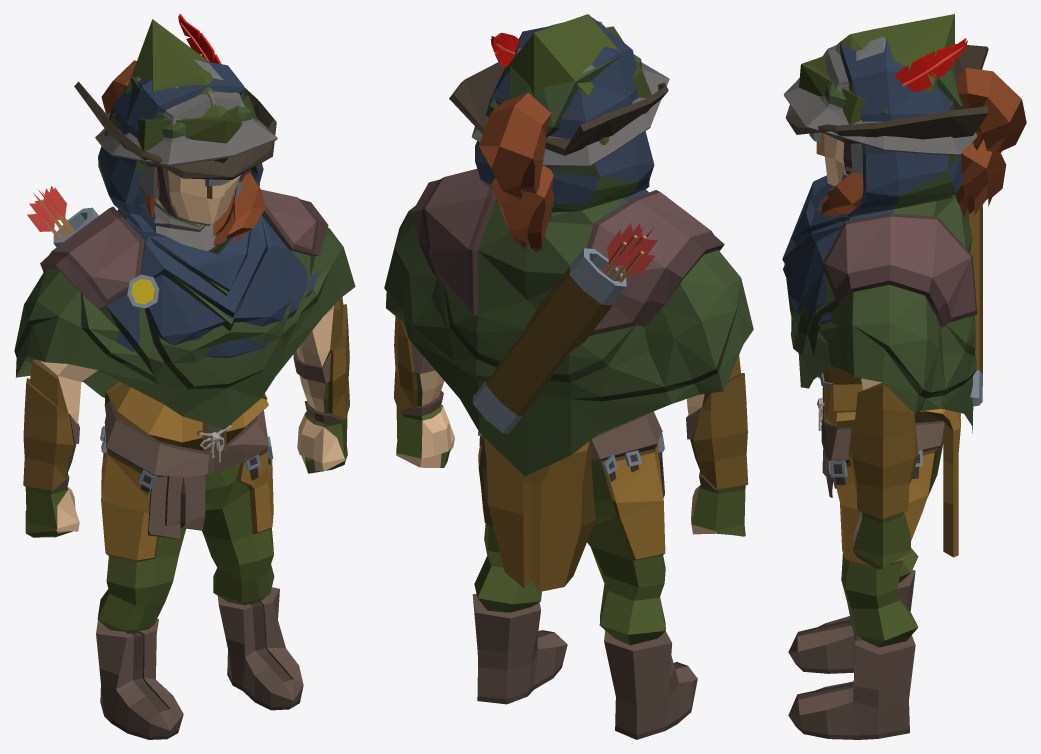
Rendered from HATS_Archer_female.fbx.
3 views of the same model, side by side, from view 1: azimuth 30°, elevation 25°; view 2: azimuth 150°, elevation 25°; view 3: azimuth 270°, elevation 25° (orthographic). The views are drawn at different scales.
Visible parts, largest first — view 1: archer_03_female02_hats:archerbase_female, archer_03_female02_hats:shall1_archer_female, archer_03_female02_hats:shall2_archer_female, archer_03_female02_hats:archer_hat, archer_03_female02_hats:pothelm_archer_female, archer_03_female02_hats:hunter_archer_female, archer_03_female02_hats:chain_helm_archer_female, archer_03_female02_hats:ponytail_shall1, archer_03_female02_hats:ponytail_baseposition, archer_03_female02_hats:bandana_archer_female; view 2: archer_03_female02_hats:archerbase_female, archer_03_female02_hats:shall1_archer_female, archer_03_female02_hats:shall2_archer_female, archer_03_female02_hats:archer_hat, archer_03_female02_hats:ponytail_baseposition, archer_03_female02_hats:hunter_archer_female, archer_03_female02_hats:ponytail_pothelm_position, archer_03_female02_hats:pothelm_archer_female, archer_03_female02_hats:bandana_archer_female; view 3: archer_03_female02_hats:archerbase_female, archer_03_female02_hats:shall1_archer_female, archer_03_female02_hats:shall2_archer_female, archer_03_female02_hats:archer_hat, archer_03_female02_hats:pothelm_archer_female, archer_03_female02_hats:hunter_archer_female, archer_03_female02_hats:ponytail_baseposition, archer_03_female02_hats:ponytail_pothelm_position, archer_03_female02_hats:ponytail_shall1, archer_03_female02_hats:bandana_archer_female, archer_03_female02_hats:chain_helm_archer_female.
Boxes of the visible parts, bbox=[...] form: archer_03_female02_hats:archerbase_female: bbox=[23, 170, 349, 739]; archer_03_female02_hats:shall1_archer_female: bbox=[14, 92, 355, 428]; archer_03_female02_hats:shall2_archer_female: bbox=[91, 59, 319, 363]; archer_03_female02_hats:archer_hat: bbox=[104, 14, 257, 163]; archer_03_female02_hats:pothelm_archer_female: bbox=[95, 76, 277, 225]; archer_03_female02_hats:hunter_archer_female: bbox=[74, 57, 276, 179]; archer_03_female02_hats:chain_helm_archer_female: bbox=[139, 59, 241, 250]; archer_03_female02_hats:ponytail_shall1: bbox=[213, 172, 265, 245]; archer_03_female02_hats:ponytail_baseposition: bbox=[101, 60, 136, 113]; archer_03_female02_hats:bandana_archer_female: bbox=[117, 76, 252, 138]; archer_03_female02_hats:archerbase_female: bbox=[393, 223, 748, 739]; archer_03_female02_hats:shall1_archer_female: bbox=[384, 141, 753, 476]; archer_03_female02_hats:shall2_archer_female: bbox=[475, 18, 710, 230]; archer_03_female02_hats:archer_hat: bbox=[491, 14, 651, 144]; archer_03_female02_hats:ponytail_baseposition: bbox=[478, 92, 551, 201]; archer_03_female02_hats:hunter_archer_female: bbox=[449, 62, 668, 155]; archer_03_female02_hats:ponytail_pothelm_position: bbox=[490, 165, 553, 251]; archer_03_female02_hats:pothelm_archer_female: bbox=[471, 21, 669, 166]; archer_03_female02_hats:bandana_archer_female: bbox=[489, 52, 642, 223]; archer_03_female02_hats:archerbase_female: bbox=[788, 132, 982, 739]; archer_03_female02_hats:shall1_archer_female: bbox=[783, 85, 977, 433]; archer_03_female02_hats:shall2_archer_female: bbox=[782, 39, 963, 326]; archer_03_female02_hats:archer_hat: bbox=[799, 14, 967, 124]; archer_03_female02_hats:pothelm_archer_female: bbox=[783, 46, 977, 180]; archer_03_female02_hats:hunter_archer_female: bbox=[785, 44, 988, 143]; archer_03_female02_hats:ponytail_baseposition: bbox=[956, 68, 1026, 153]; archer_03_female02_hats:ponytail_pothelm_position: bbox=[955, 139, 1006, 216]; archer_03_female02_hats:ponytail_shall1: bbox=[820, 172, 863, 216]; archer_03_female02_hats:bandana_archer_female: bbox=[825, 70, 970, 181]; archer_03_female02_hats:chain_helm_archer_female: bbox=[809, 36, 885, 173].
Size of the model in its own units: 486 by 924 by 300.
